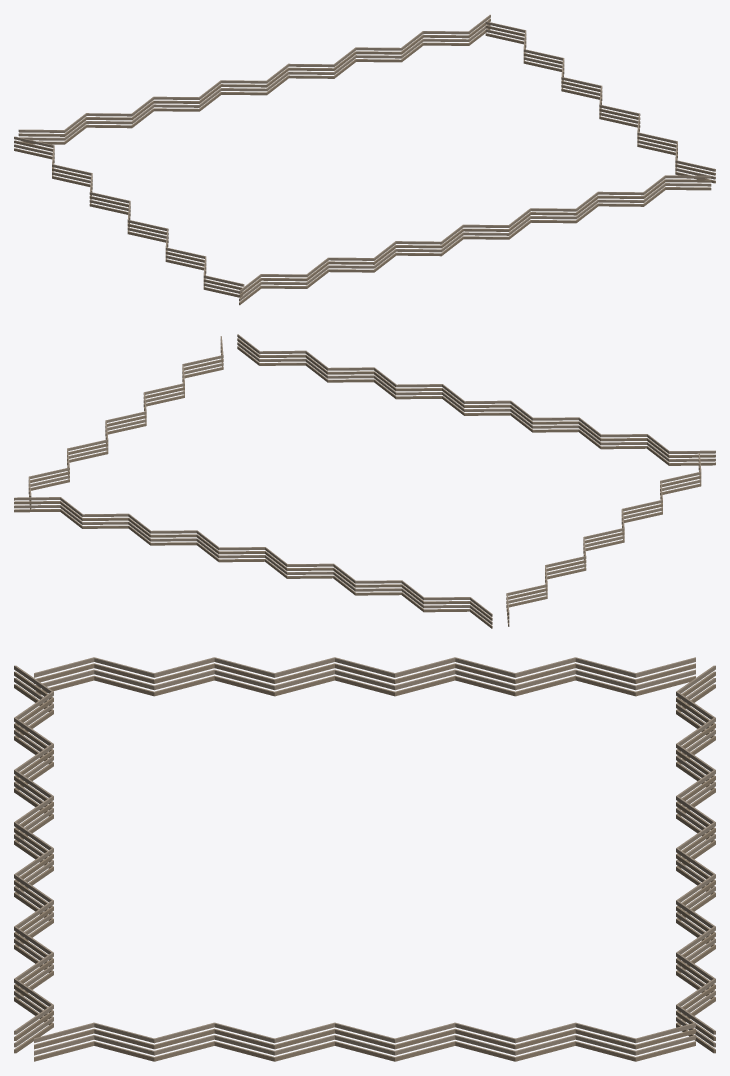
File: first_fort_outer_coursoll_field__coursoll_1808.glb
3 views of the same model, one above another, from view 1: azimuth 30°, elevation 25°; view 2: azimuth 150°, elevation 25°; view 3: azimuth 270°, elevation 25° (orthographic). The views are drawn at different scales.
Parts seen in each view (by area): view 1: first_fort_outer_coursoll_field__coursoll_1808; view 2: first_fort_outer_coursoll_field__coursoll_1808; view 3: first_fort_outer_coursoll_field__coursoll_1808.
Part boxes in pixels (bbox=[...]): first_fort_outer_coursoll_field__coursoll_1808: bbox=[14, 14, 715, 305]; first_fort_outer_coursoll_field__coursoll_1808: bbox=[14, 334, 715, 628]; first_fort_outer_coursoll_field__coursoll_1808: bbox=[14, 657, 715, 1061].
Size of the model in its own units: 43.15 by 1.18 by 33.49.
